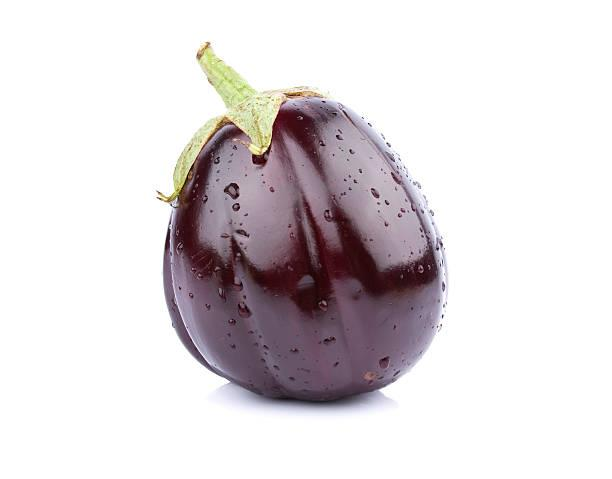Brinjal: (152, 34, 452, 407)
